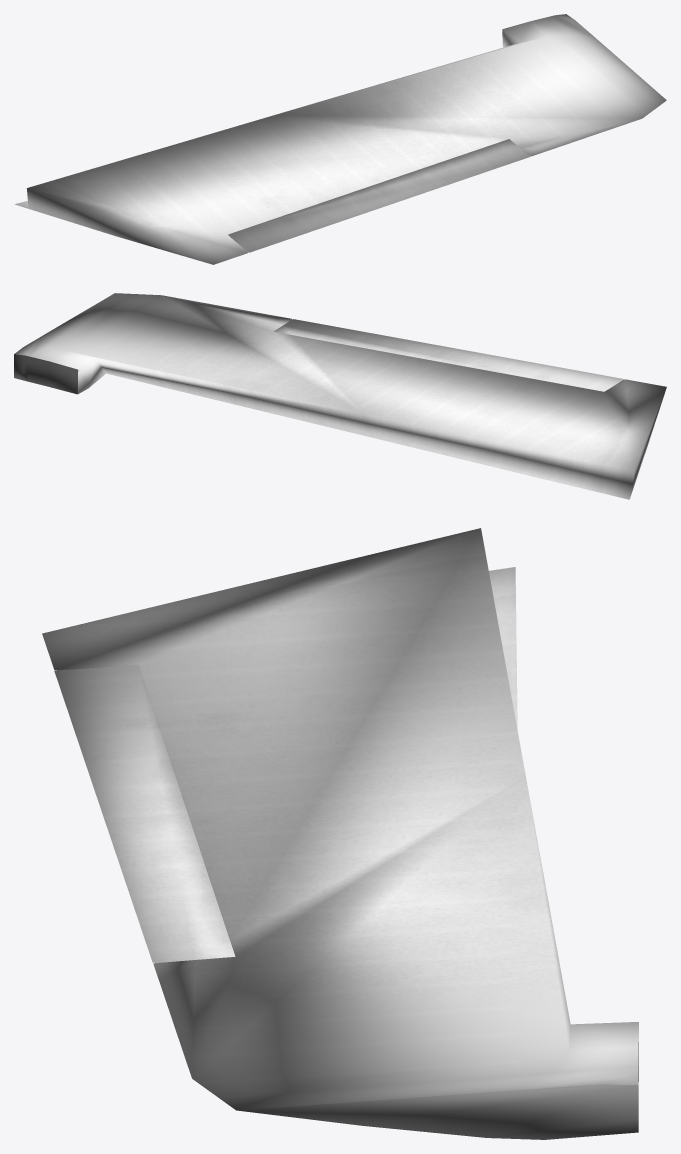
File: elevator_right.glb
The picture shows the model from 3 angles, top to bottom: view 1: azimuth 30°, elevation 25°; view 2: azimuth 150°, elevation 25°; view 3: azimuth 270°, elevation 25°; orthographic projection. The views are drawn at different scales.
Visible parts, largest first — view 1: elevator_right; view 2: elevator_right; view 3: elevator_right.
Part boxes in pixels (x1,y1,x2,y2): elevator_right: (14, 14, 666, 264); elevator_right: (14, 293, 666, 499); elevator_right: (42, 528, 638, 1139).
Size of the model in its own units: 1.72 by 0.0816 by 0.7627.
1 material, 1 textured.
